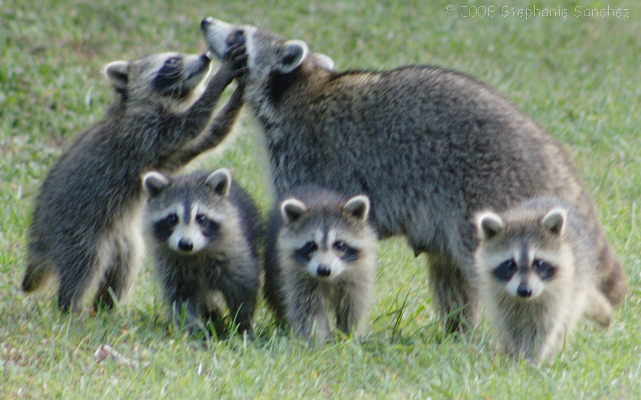raccoon: (466, 179, 603, 376), (267, 189, 410, 370), (135, 159, 267, 352)
